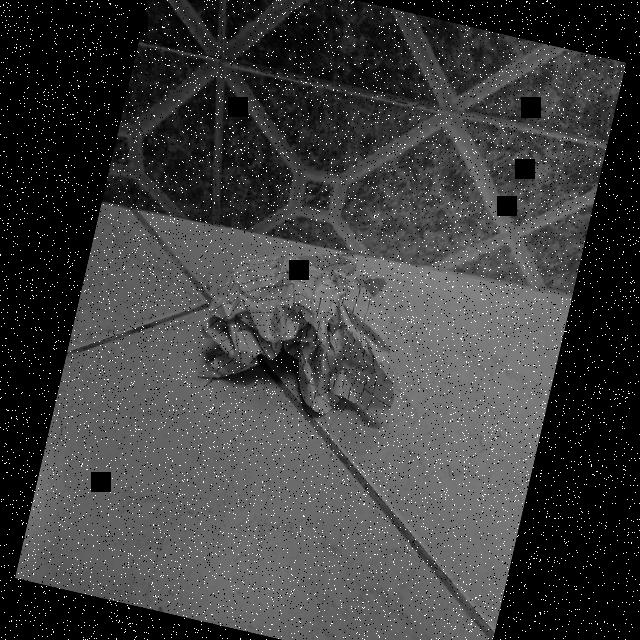scrap_paper: (199, 235, 415, 428)
